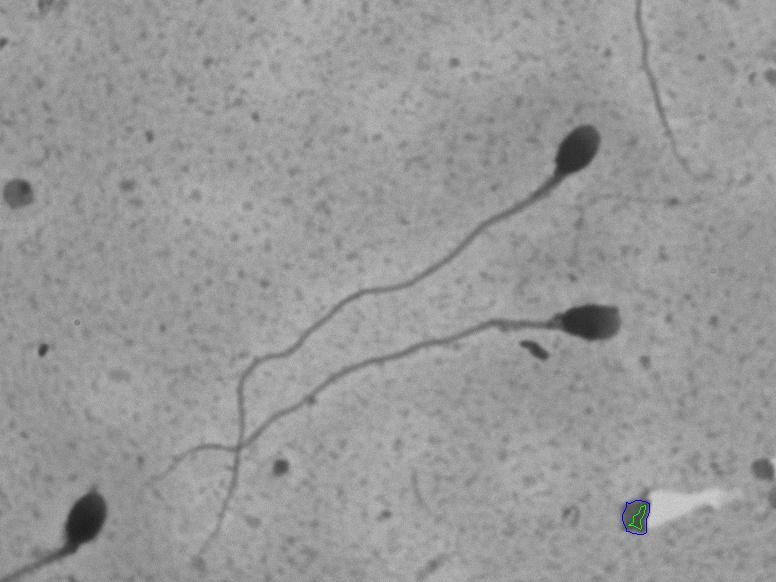Normal: (187, 108, 616, 559), (127, 291, 637, 499)
